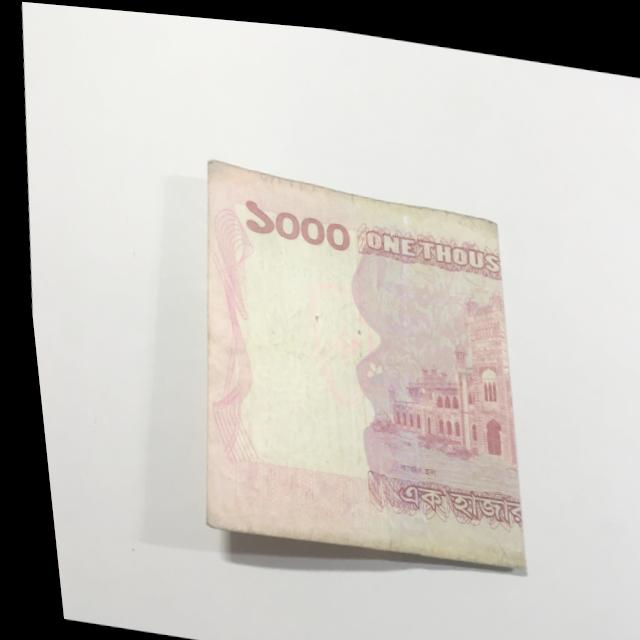Taka: (171, 141, 544, 577)
